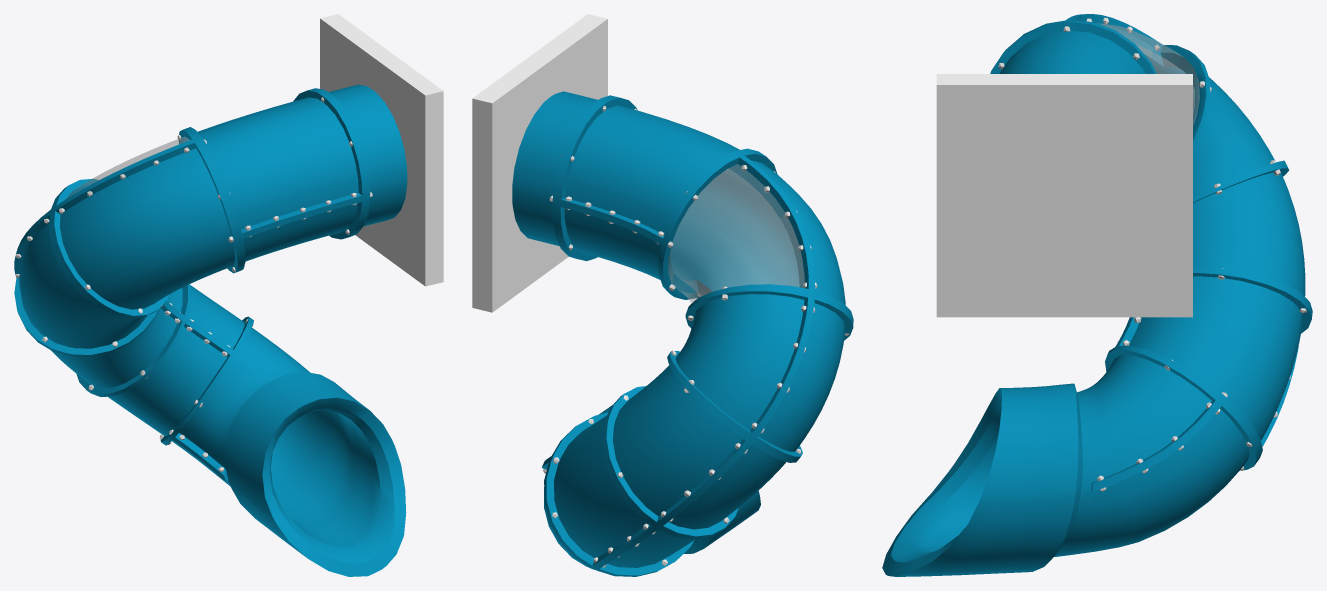
The model's file is TTWSC-5.5217e47a.glb.
3 renders of one model, left to right at view 1: azimuth 30°, elevation 25°; view 2: azimuth 150°, elevation 25°; view 3: azimuth 270°, elevation 25°, orthographic. The views are drawn at different scales.
Parts seen in each view (by area): view 1: Turbo_Twister_Slider004,_colorize_, joint_c,1,6, Side_winder_slide010, Turbo_Twister_Slider005; view 2: Turbo_Twister_Slider004,_colorize_, joint_c,1,6, Turbo_Twister_Slider005, Side_winder_slide010; view 3: Turbo_Twister_Slider004,_colorize_, joint_c,1,6, Turbo_Twister_Slider005, Side_winder_slide010.
Part boxes in pixels (box(x1,y1,x2,y2)): Turbo_Twister_Slider004,_colorize_: box(14, 84, 407, 576); joint_c,1,6: box(320, 14, 443, 286); Side_winder_slide010: box(15, 97, 372, 478); Turbo_Twister_Slider005: box(66, 136, 189, 198); Turbo_Twister_Slider004,_colorize_: box(512, 91, 853, 576); joint_c,1,6: box(472, 14, 607, 312); Turbo_Twister_Slider005: box(668, 164, 804, 303); Side_winder_slide010: box(543, 105, 849, 567); Turbo_Twister_Slider004,_colorize_: box(882, 14, 1312, 576); joint_c,1,6: box(936, 74, 1192, 317); Turbo_Twister_Slider005: box(1097, 23, 1199, 125); Side_winder_slide010: box(998, 17, 1306, 491).
Bounding box in the file's own units: 1.72 × 2.33 × 1.68.
Materials: 4 (1 with a texture image).
